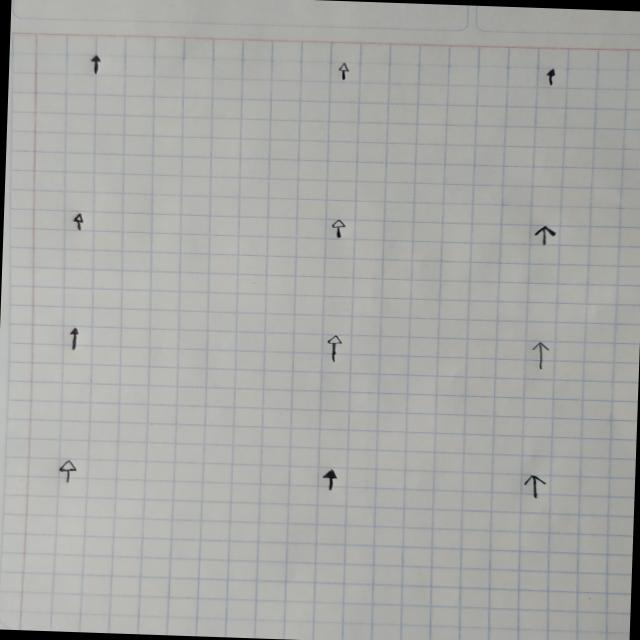arrow_line_up: (522, 473, 546, 502), (528, 340, 552, 368), (530, 225, 558, 247), (322, 333, 343, 362), (56, 458, 76, 484), (319, 468, 338, 493), (70, 210, 89, 233), (88, 54, 104, 78), (66, 326, 80, 352), (327, 218, 345, 238), (542, 66, 558, 88), (335, 61, 350, 83)
